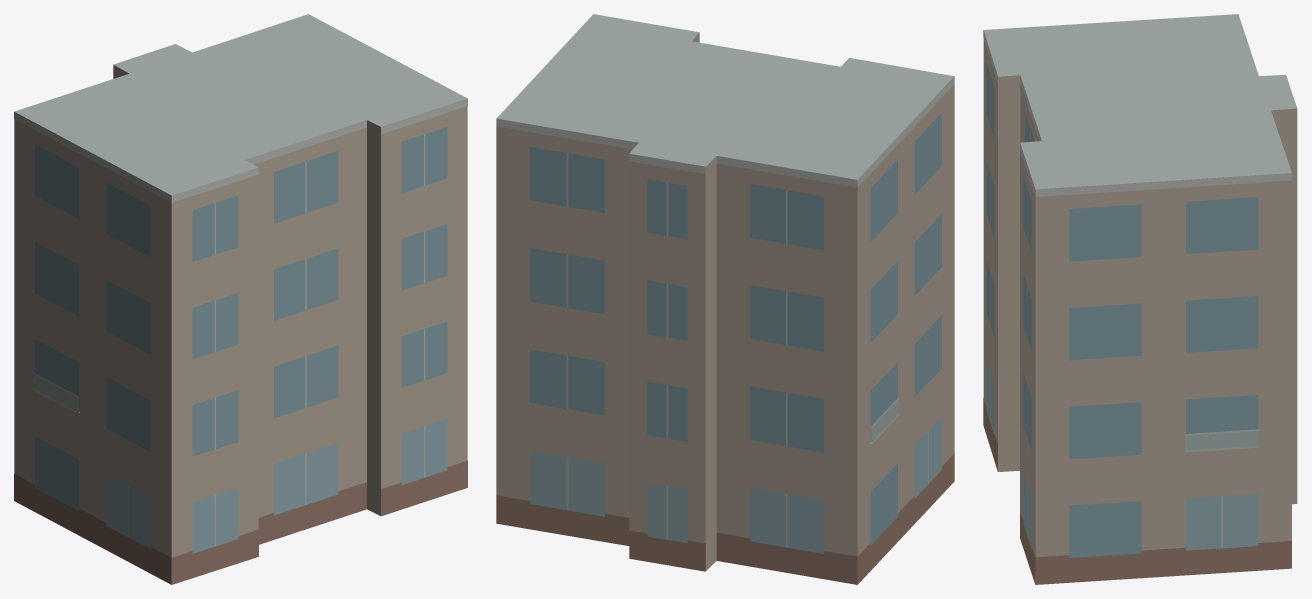
File: survey-upis-32705925.glb
3 views of the same model, side by side, from view 1: azimuth 30°, elevation 25°; view 2: azimuth 150°, elevation 25°; view 3: azimuth 270°, elevation 25° (orthographic). The views are drawn at different scales.
Visible parts, largest first — view 1: survey-upis-32705925.tmp; view 2: survey-upis-32705925.tmp; view 3: survey-upis-32705925.tmp.
Boxes of the visible parts, bbox=[...] form: survey-upis-32705925.tmp: bbox=[14, 14, 467, 584]; survey-upis-32705925.tmp: bbox=[496, 14, 954, 584]; survey-upis-32705925.tmp: bbox=[983, 14, 1297, 584].
Size of the model in its own units: 12.18 by 12.8 by 9.22.
